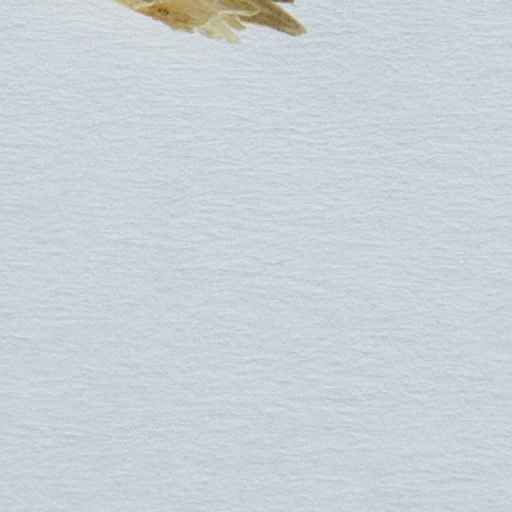Peel-poly: (105, 0, 306, 41)
